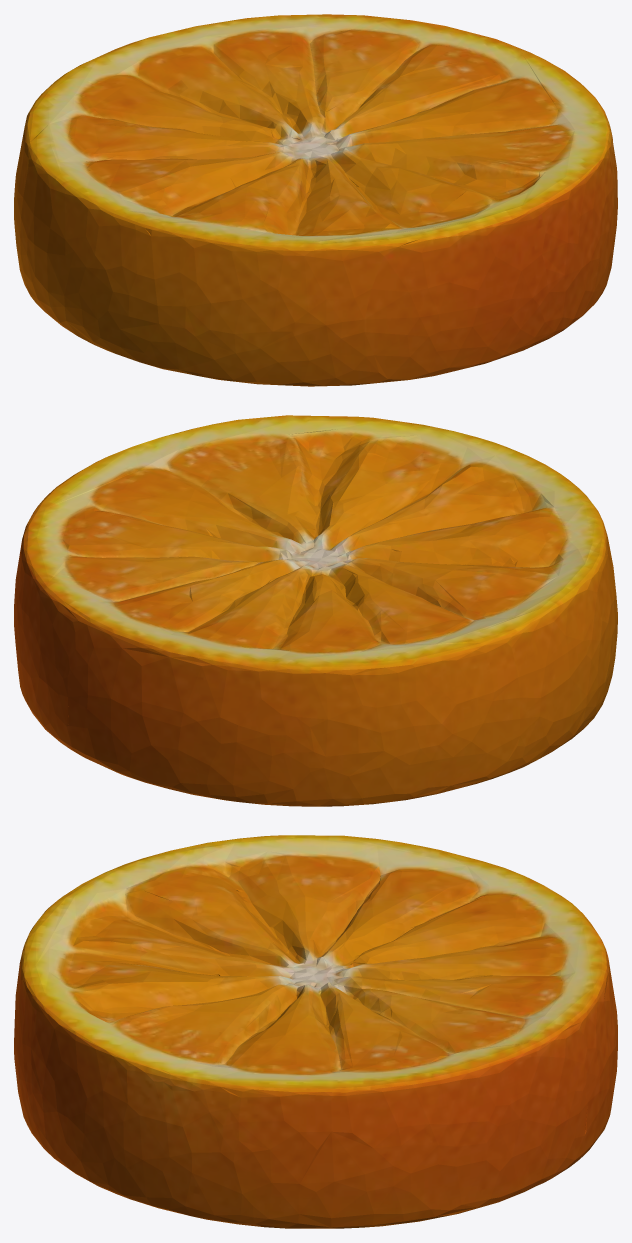
Rendered from orange.glb.
3 views of the same model, one above another, from view 1: azimuth 30°, elevation 25°; view 2: azimuth 150°, elevation 25°; view 3: azimuth 270°, elevation 25° (orthographic). The views are drawn at different scales.
Parts seen in each view (by area): view 1: geometry_0; view 2: geometry_0; view 3: geometry_0.
Part boxes in pixels (bbox=[...]): geometry_0: bbox=[14, 14, 617, 386]; geometry_0: bbox=[14, 415, 617, 806]; geometry_0: bbox=[14, 835, 617, 1228].
Bounding box in the file's own units: 0.998 × 0.2694 × 0.9826.
Materials: 1 (1 with a texture image).
